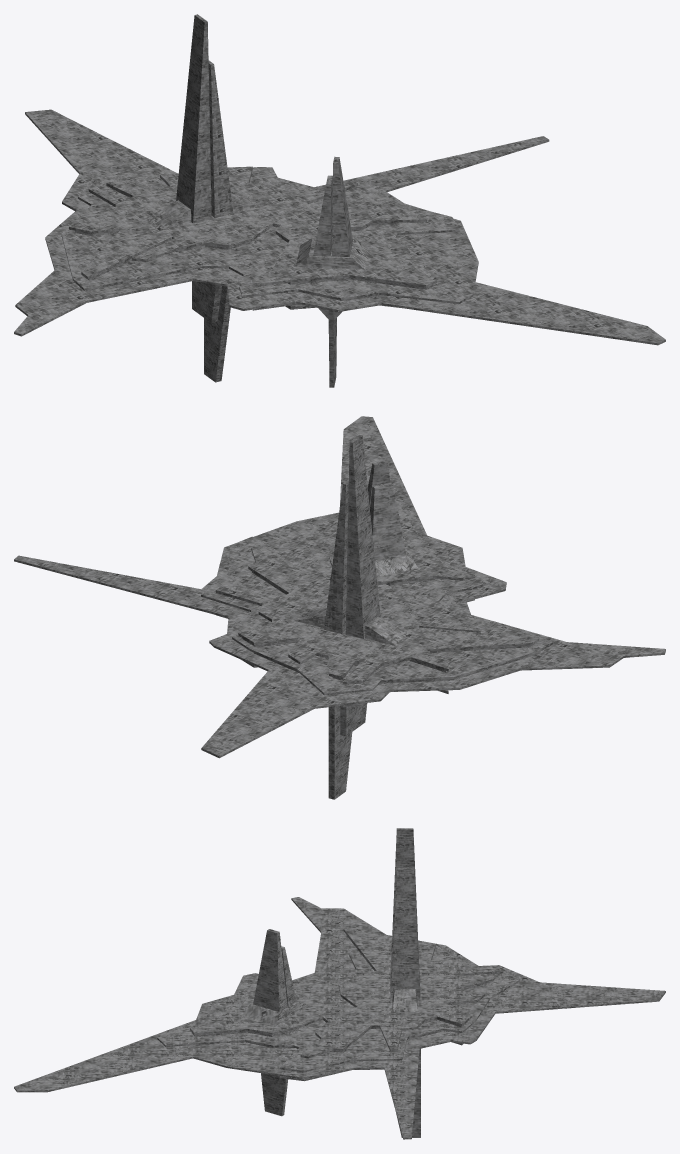
Rendered from Station_1.FBX.
3 views of the same model, one above another, from view 1: azimuth 30°, elevation 25°; view 2: azimuth 150°, elevation 25°; view 3: azimuth 270°, elevation 25° (orthographic). The views are drawn at different scales.
Parts seen in each view (by area): view 1: Level 008; view 2: Level 008; view 3: Level 008.
Part boxes in pixels (box(x1,y1,x2,y2)): Level 008: box(14, 14, 665, 387); Level 008: box(14, 416, 665, 799); Level 008: box(14, 828, 665, 1139).
Bounding box in the file's own units: 608 × 355 × 695.
